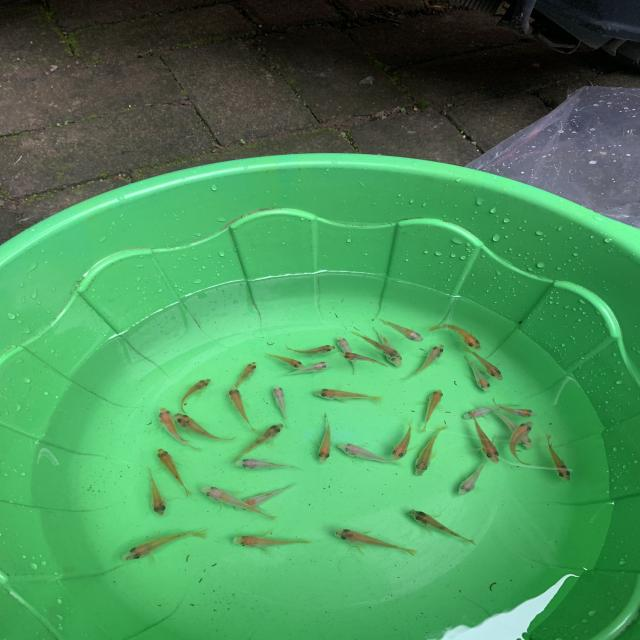nila: (194, 481, 278, 525), (117, 528, 212, 564), (331, 524, 424, 560), (404, 507, 478, 549), (461, 407, 506, 465), (152, 405, 204, 455), (232, 479, 301, 514), (409, 422, 452, 478), (154, 442, 197, 498), (173, 410, 240, 444), (232, 423, 287, 464), (334, 439, 402, 471), (224, 383, 263, 438), (456, 444, 494, 500), (490, 404, 537, 448), (137, 464, 173, 518), (346, 327, 407, 357), (543, 429, 576, 483), (306, 385, 390, 406), (229, 531, 317, 551), (401, 341, 443, 382), (430, 320, 487, 350), (502, 418, 536, 467), (374, 314, 426, 344), (465, 346, 511, 379), (370, 324, 404, 367), (331, 332, 363, 377), (388, 417, 418, 464), (230, 454, 308, 472), (177, 376, 213, 414), (418, 386, 446, 432), (462, 399, 522, 420), (227, 360, 260, 396), (464, 354, 492, 396), (492, 396, 542, 419), (270, 383, 294, 428), (341, 348, 392, 368), (263, 349, 307, 371), (314, 414, 332, 466), (284, 359, 334, 377), (283, 340, 338, 356)
